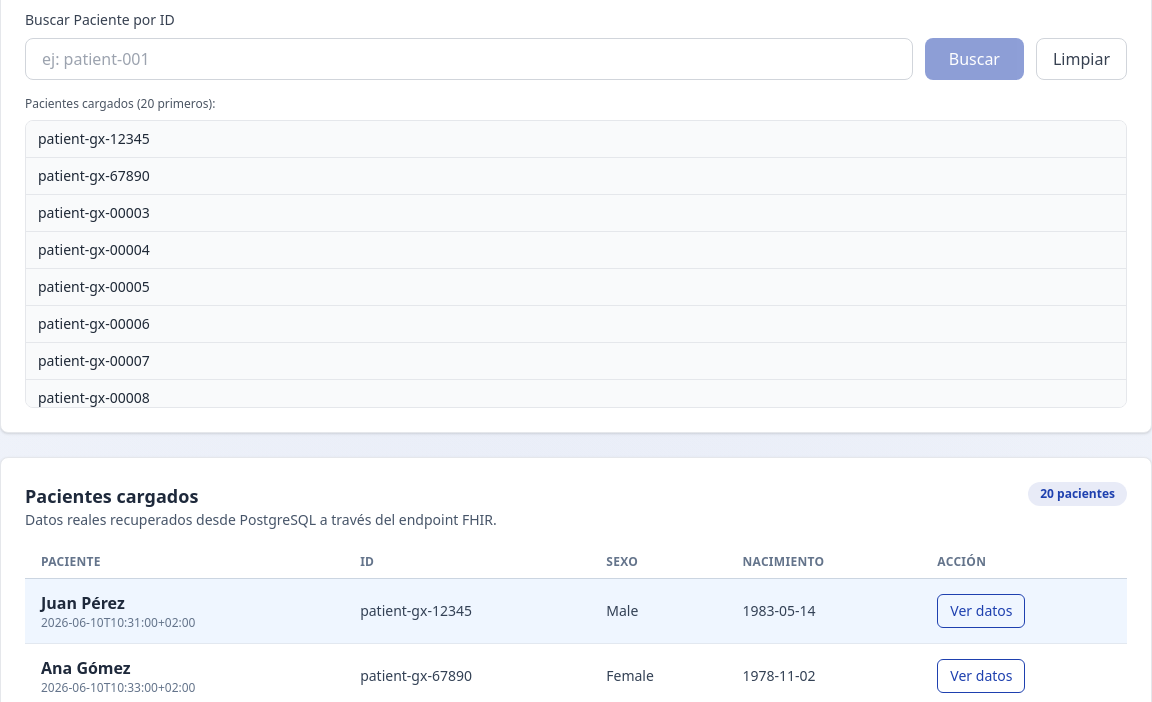
Test case: Dashboard › searches patients across the full dataset and highlights results outside the first 20
Type "patient-gx-00021" into the field with placeholder "ej: patient-001". click: (469, 59)
box: [25,38,913,80]
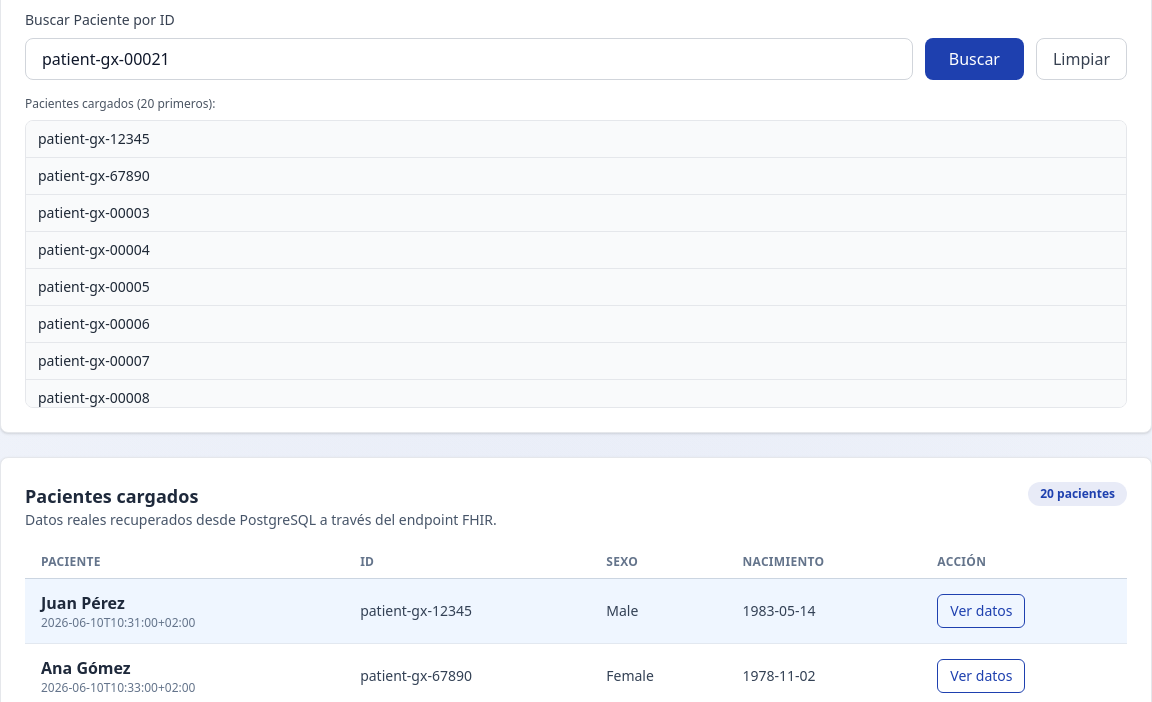
Click the button "Buscar". click: (974, 59)
box: [925,38,1024,80]
(page scrolled)
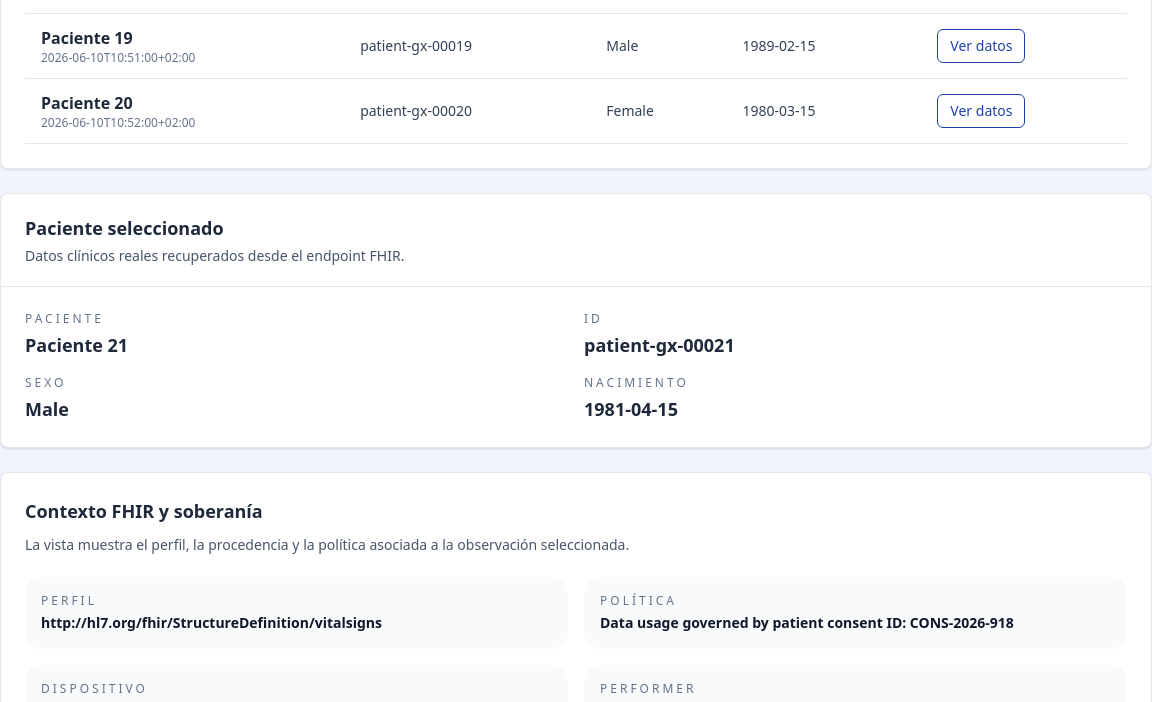
Check: the text "Paciente 21" is shown, box [25,333,128,357]
